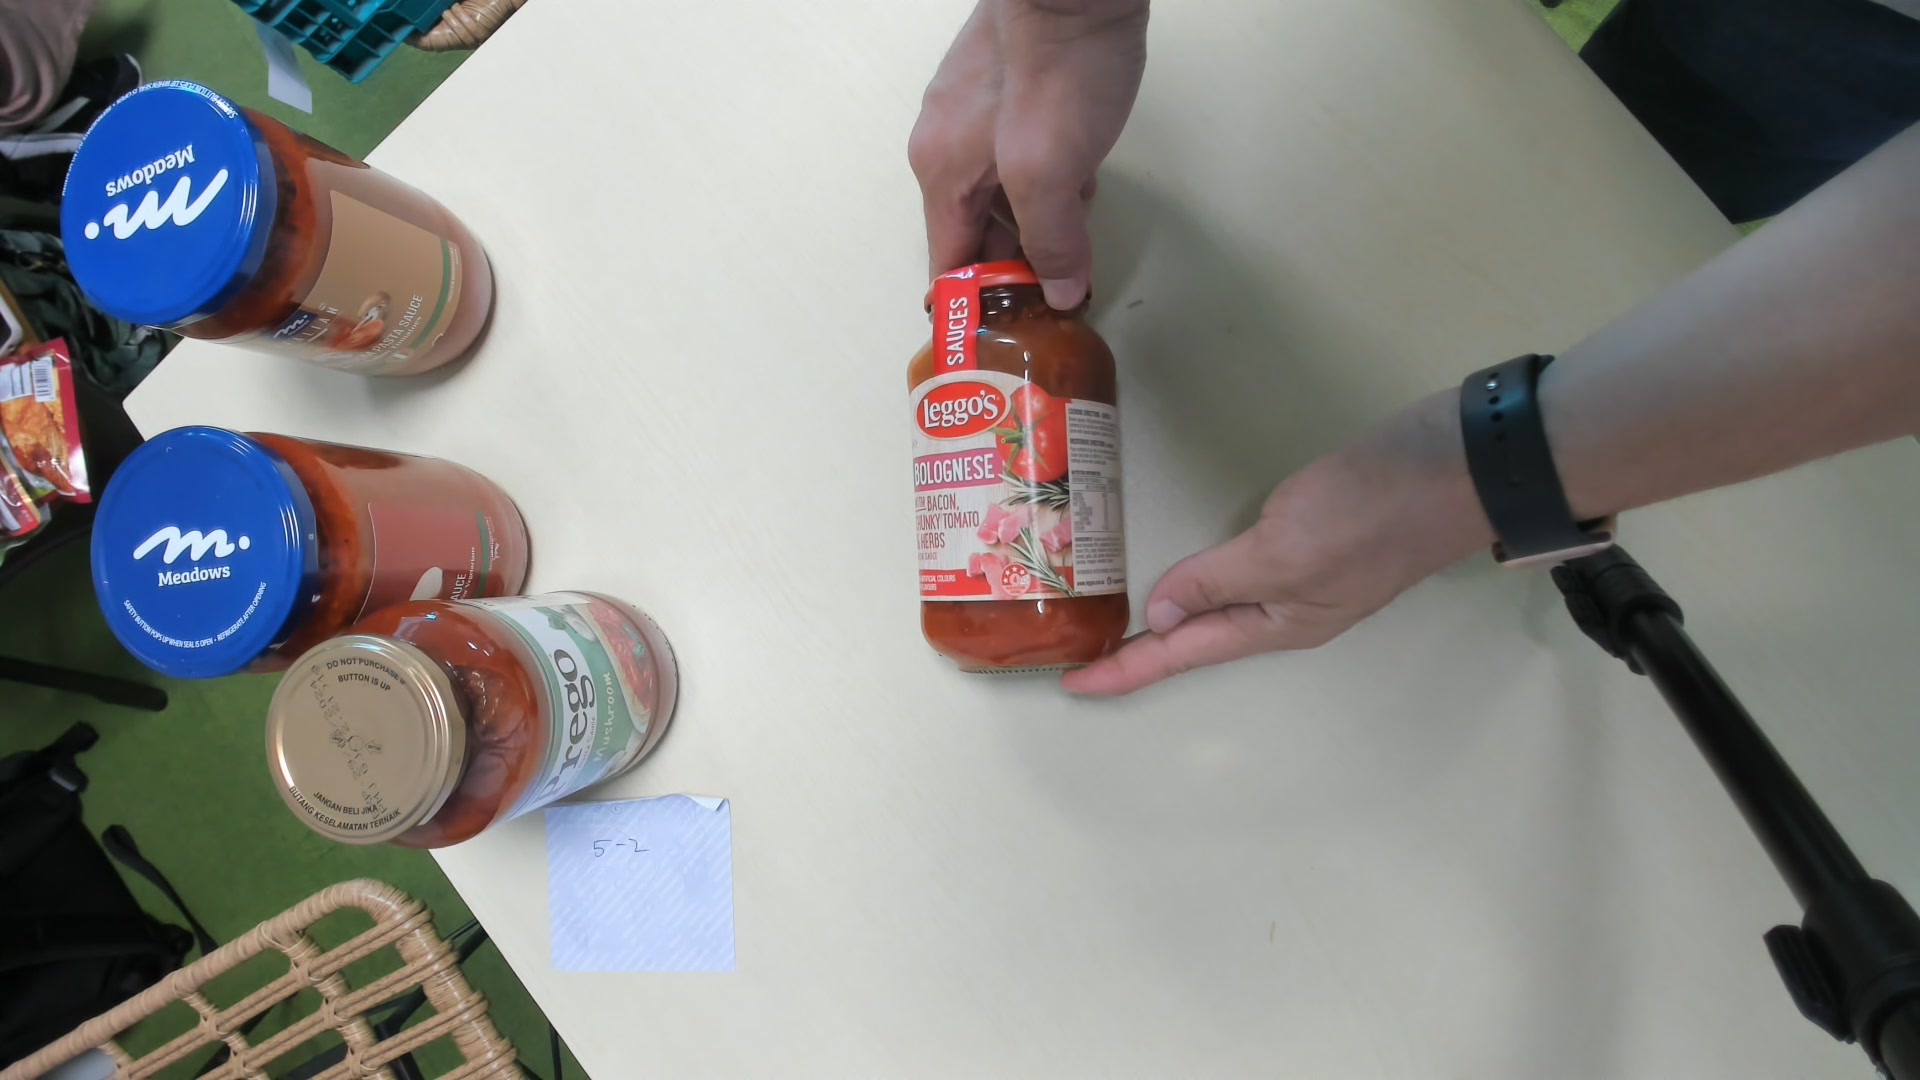PastaSauce_500-599g_Halal_NonHealthy: (909, 262, 1129, 673)
